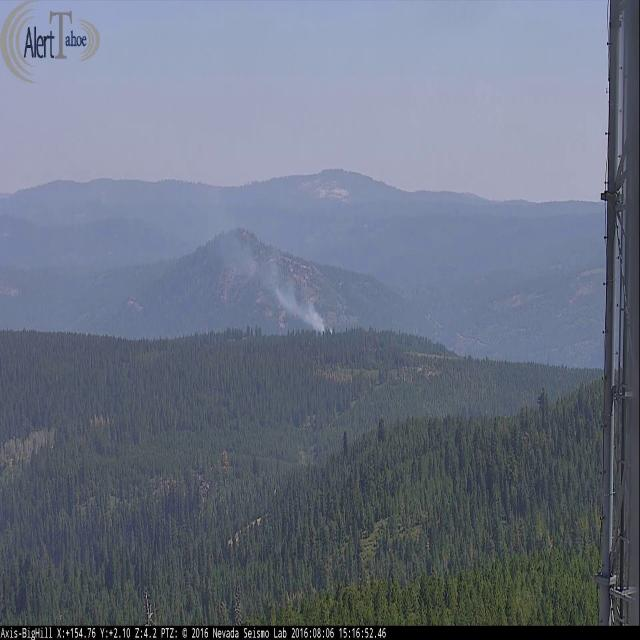smoke: (207, 207, 338, 341)
